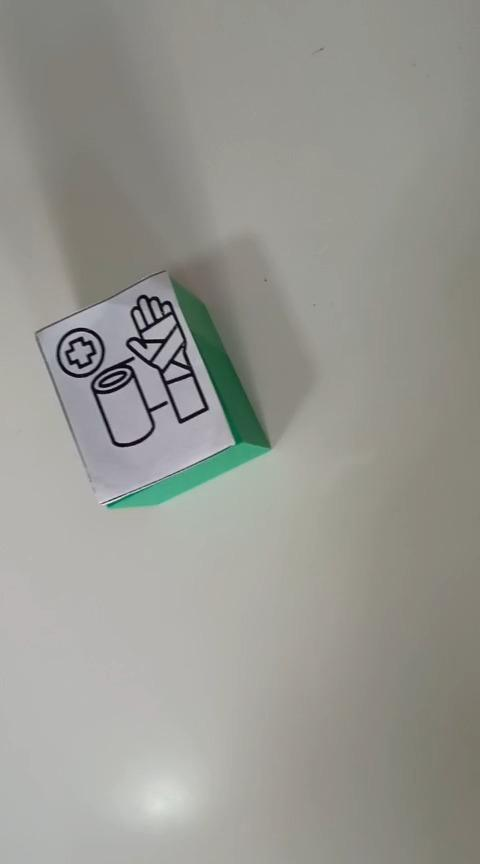Bandages: (34, 268, 271, 508)
